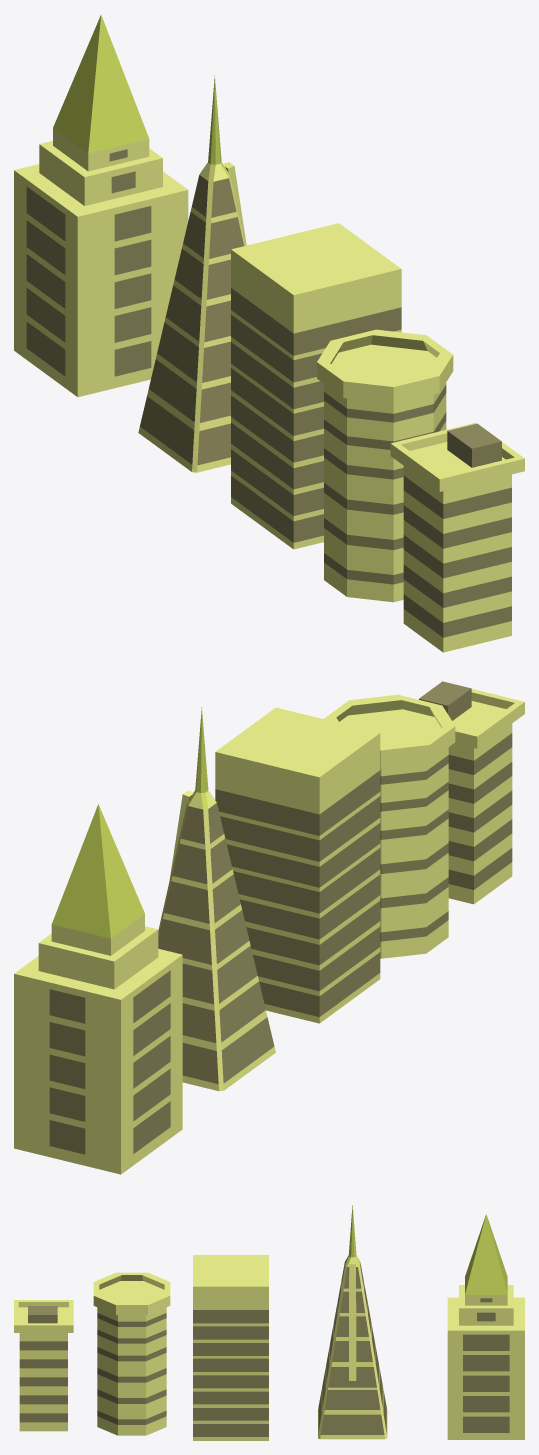
Rendered from Buildings.fbx.
The picture shows the model from 3 angles, top to bottom: view 1: azimuth 30°, elevation 25°; view 2: azimuth 150°, elevation 25°; view 3: azimuth 270°, elevation 25°; orthographic projection. The views are drawn at different scales.
Parts seen in each view (by area): view 1: BuildingType5, BuildingTyep3, BuildingType2, BuildingType1, BuildingType4; view 2: BuildingType5, BuildingTyep3, BuildingType4, BuildingType2, BuildingType1; view 3: BuildingTyep3, BuildingType5, BuildingType2, BuildingType4, BuildingType1.
Boxes of the visible parts, x1,y1,x2,y2 form: BuildingType5: [14, 14, 188, 397]; BuildingTyep3: [231, 223, 401, 549]; BuildingType2: [317, 329, 453, 602]; BuildingType1: [390, 422, 524, 652]; BuildingType4: [138, 75, 246, 472]; BuildingType5: [14, 804, 182, 1174]; BuildingTyep3: [215, 707, 380, 1023]; BuildingType4: [158, 707, 275, 1091]; BuildingType2: [324, 694, 455, 958]; BuildingType1: [418, 681, 524, 904]; BuildingTyep3: [193, 1255, 268, 1440]; BuildingType5: [447, 1214, 524, 1439]; BuildingType2: [93, 1272, 170, 1435]; BuildingType4: [318, 1205, 387, 1439]; BuildingType1: [14, 1300, 73, 1431].
Bounding box in the file's own units: 8429 × 24161 × 50521.
